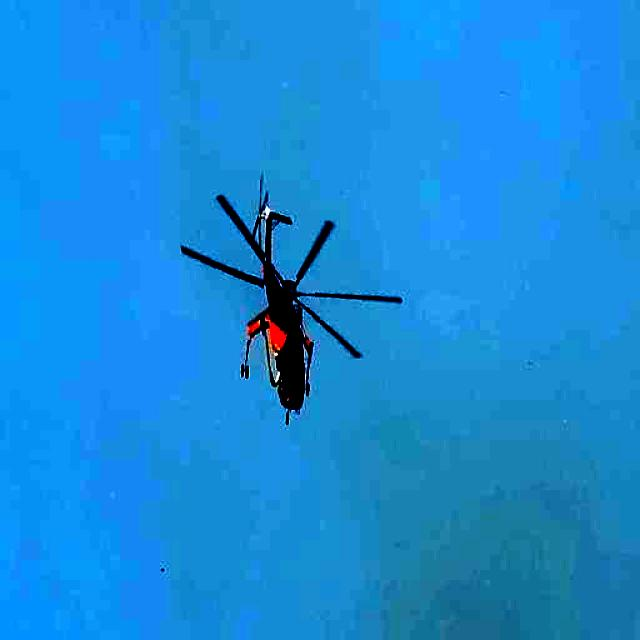drone: (164, 166, 404, 452)
